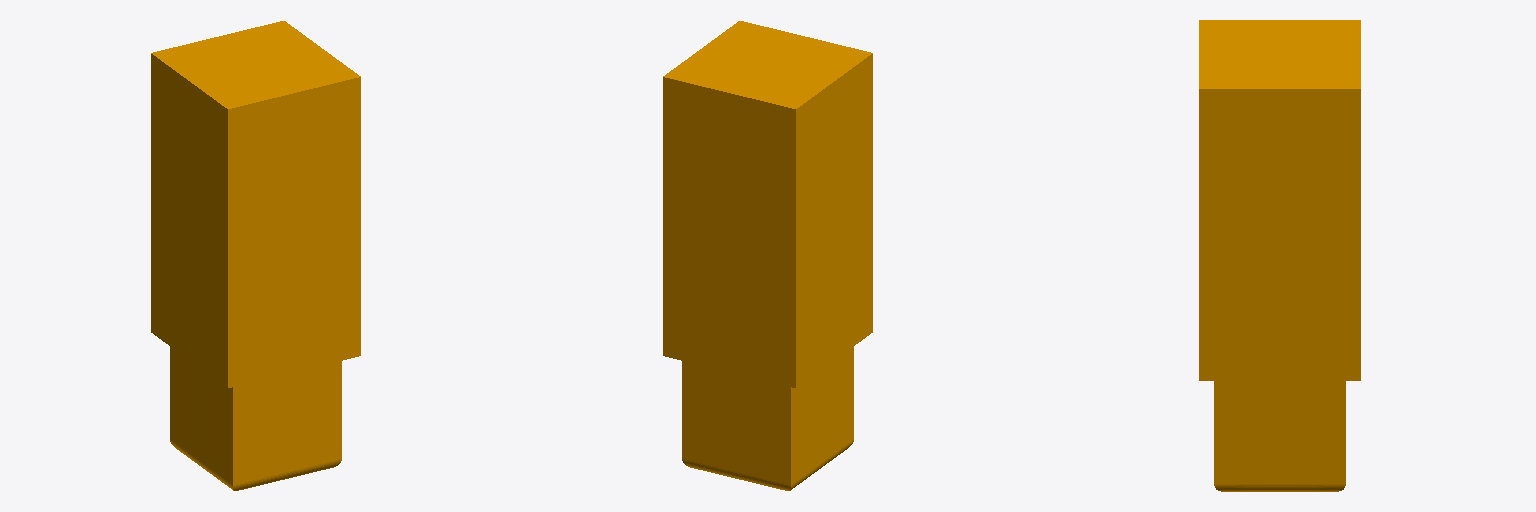
The robot description file, URDF, robot "00071_plug":
<?xml version="1.0"?>
<robot name="00071_plug">
	<link name="00071_plug">
		<visual>
			<geometry>
				<mesh filename="../mesh/00071/asset_plug.obj"/>
			</geometry>
		</visual>
		<collision>
			<geometry>
				<mesh filename="../mesh/00071/asset_plug.obj"/>
			</geometry>
			<sdf resolution="256"/>
		</collision>
	</link>
</robot>

--- Render facts (derived) ---
3 views of the same robot in one strip: view 1: azimuth 30°, elevation 25°; view 2: azimuth 150°, elevation 25°; view 3: azimuth 270°, elevation 25° (orthographic).
Robot: 00071_plug — 1 links, 0 joints (none); root link 00071_plug; default pose: every joint at zero.
Visible links, largest first — view 1: 00071_plug; view 2: 00071_plug; view 3: 00071_plug.
Boxes of the visible links, x1,y1,x2,y2 form: 00071_plug: [151, 21, 360, 490]; 00071_plug: [663, 21, 872, 490]; 00071_plug: [1199, 20, 1360, 491].
Bounding box of the posed robot: 0.03 × 0.03 × 0.085 m (x, y, z).
Meshes: 1 distinct files referenced, 1 mesh visuals loaded (1 OBJ).
